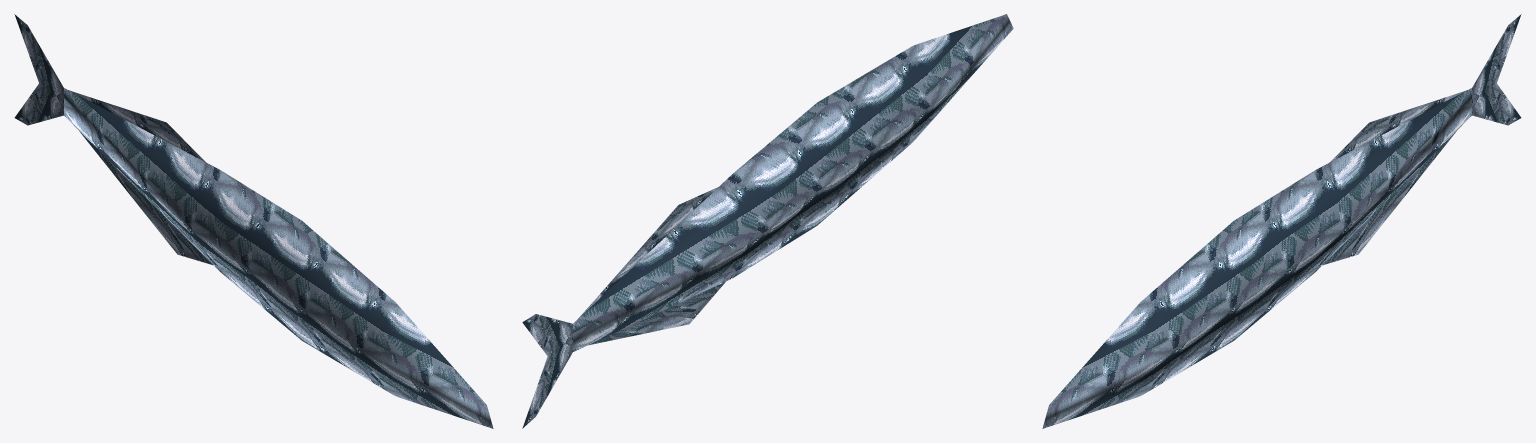
File: 4857fish67.gltf
3 views of the same model, side by side, from view 1: azimuth 30°, elevation 25°; view 2: azimuth 150°, elevation 25°; view 3: azimuth 330°, elevation 25° (orthographic). The views are drawn at different scales.
Visible parts, largest first — view 1: 4857fish67; view 2: 4857fish67; view 3: 4857fish67.
Part boxes in pixels (x1,y1,x2,y2): 4857fish67: (14, 14, 493, 428); 4857fish67: (522, 14, 1013, 428); 4857fish67: (1042, 14, 1521, 428).
Bounding box in the file's own units: 0.0767 × 0.1431 × 0.9932.
Materials: 1 (1 with a texture image).
